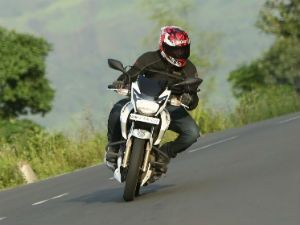helmet: (157, 25, 192, 68)
